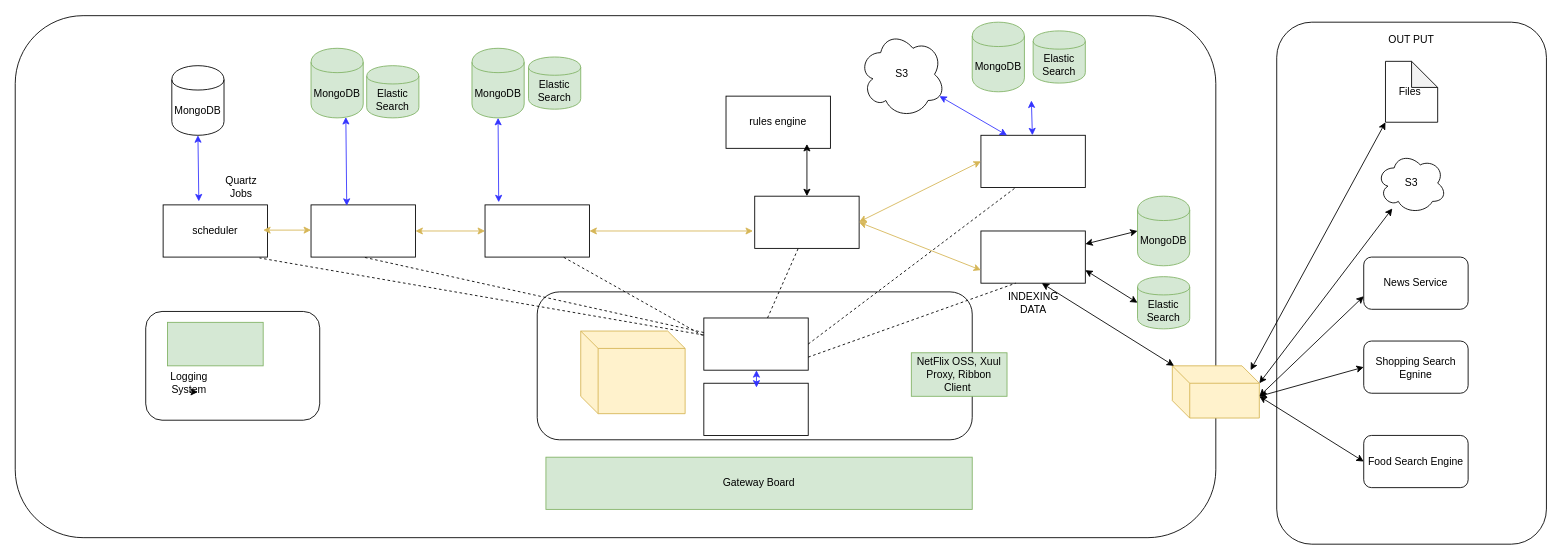
Some shapes in this 1562 by 559 pixel diagram are drawn without their labels. Each missing label, with the centre of its shape:
"authenticate service" goes at point (755, 408).
"configurator" goes at point (362, 230).
"consoler" goes at point (215, 343).
"Crawler-Registry" goes at point (755, 343).
"donwloader" goes at point (1032, 160).
"fetcher" goes at point (536, 230).
"indexer" goes at point (1032, 256).
"Kafka Streaming Data" goes at point (1215, 391).
"parser" goes at point (806, 221).
"RabbitMQ Message Quue" goes at point (632, 372).
